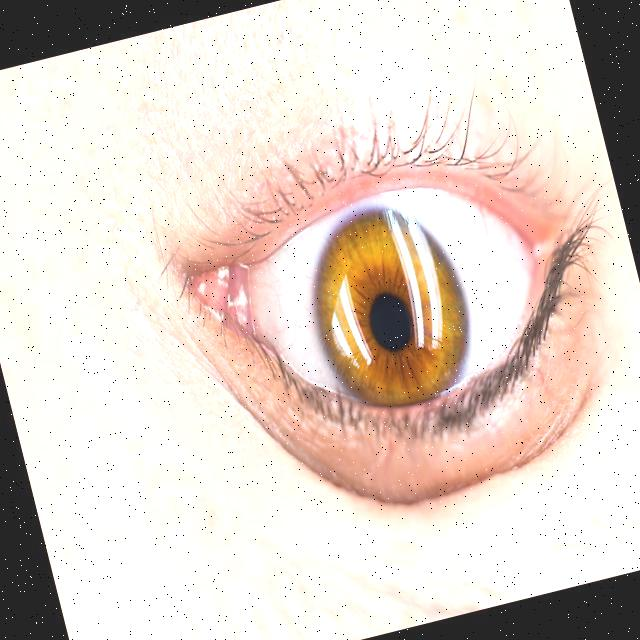Normal: (157, 83, 615, 502)
